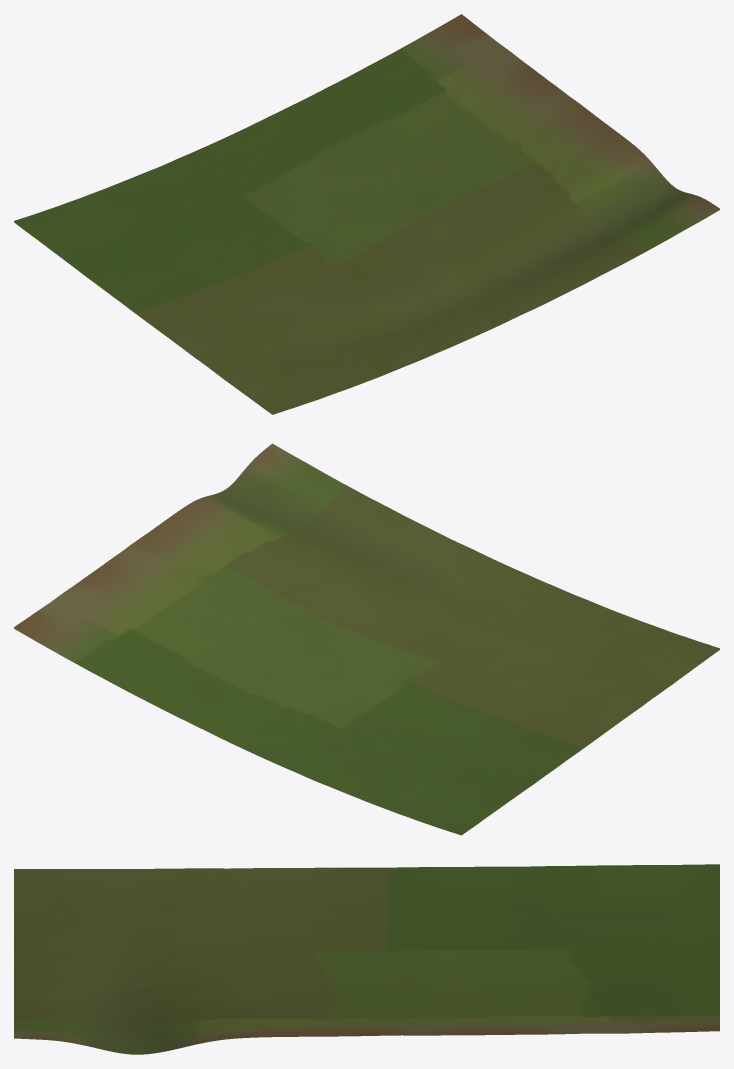
The model's file is land_n_03_02.glb.
3 views of the same model, one above another, from view 1: azimuth 30°, elevation 25°; view 2: azimuth 150°, elevation 25°; view 3: azimuth 270°, elevation 25° (orthographic). The views are drawn at different scales.
Parts seen in each view (by area): view 1: land_n_03_02; view 2: land_n_03_02; view 3: land_n_03_02.
Part boxes in pixels (<box>): land_n_03_02: <box>14,14,719,414</box>; land_n_03_02: <box>14,443,719,835</box>; land_n_03_02: <box>14,864,719,1054</box>.
Bounding box in the file's own units: 480 × 105 × 480.
